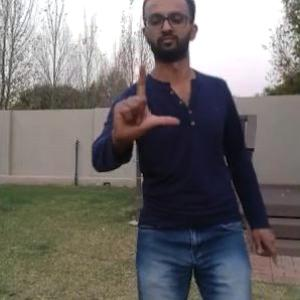land_hand: (110, 59, 182, 147)
